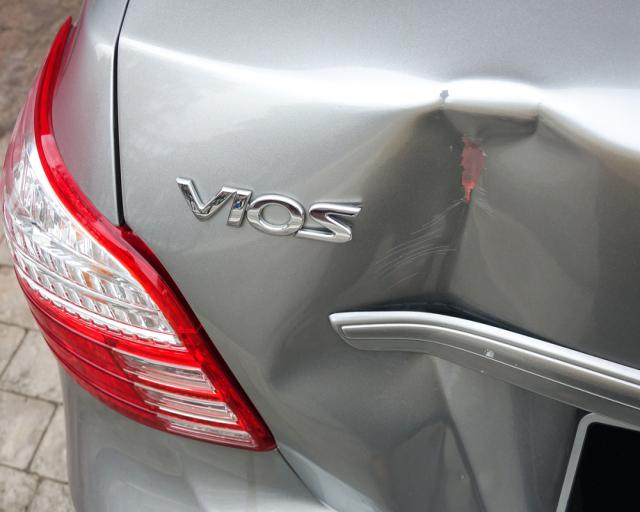dent: (279, 91, 593, 512)
